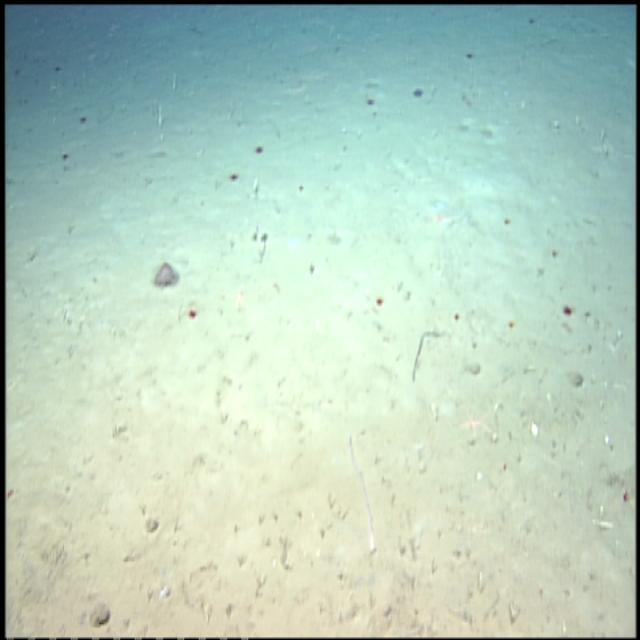Brittle Star: (454, 396, 502, 446), (419, 200, 458, 238), (223, 280, 257, 318)
Not Brittle Star: (151, 258, 181, 292), (185, 303, 200, 324), (410, 85, 426, 102), (252, 142, 266, 158)
